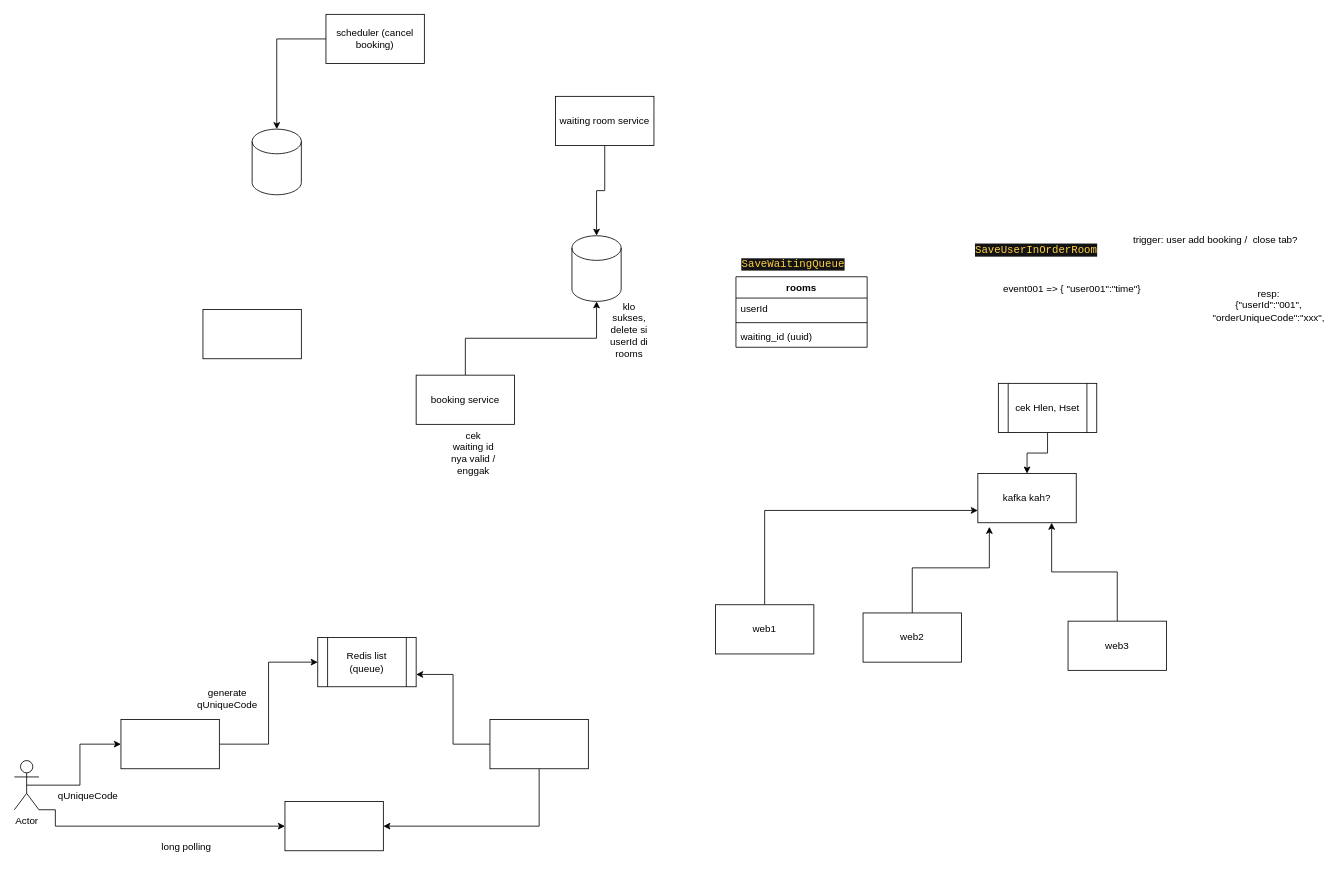
Some shapes in this 1339 by 873 pixel diagram are drawn without their labels. Each missing label, with the box of its shape:
/subQueue: (284, 801, 383, 851)
/waitingQueue: (120, 719, 219, 769)
db: (251, 128, 301, 195)
Order room - Check available: (489, 719, 588, 769)
payment service: (202, 309, 301, 359)
redis: (571, 235, 621, 301)
